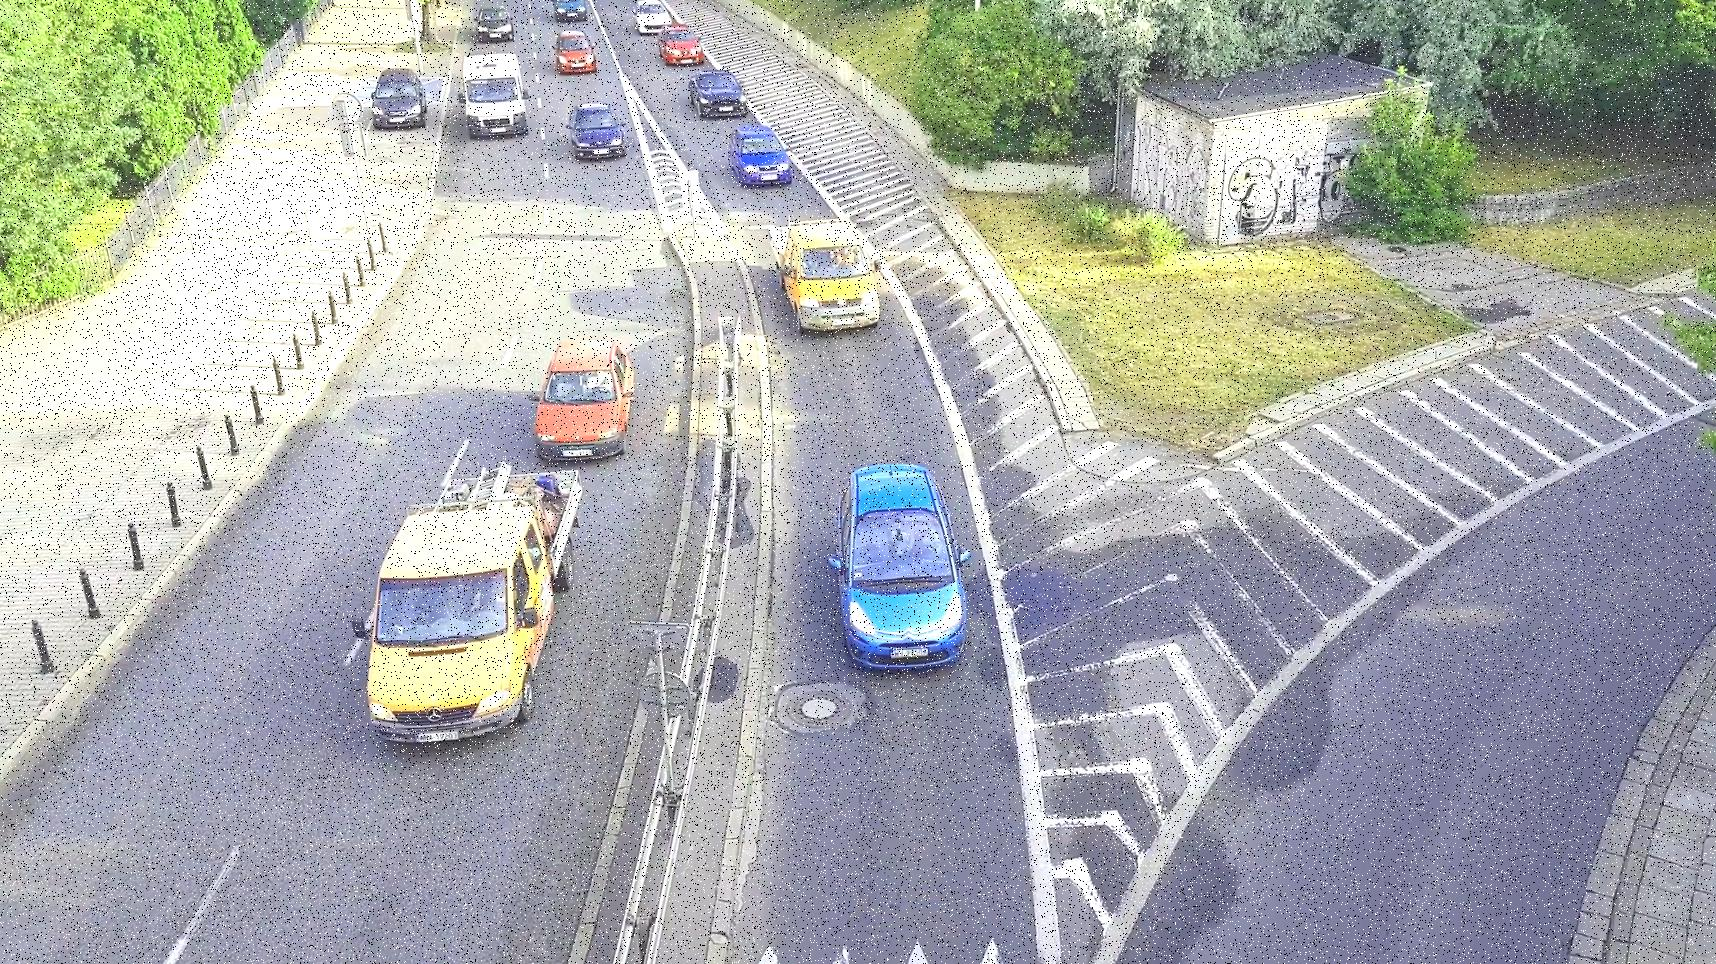car: (826, 457, 978, 662), (527, 316, 641, 471), (456, 47, 533, 140), (722, 121, 805, 196), (563, 94, 634, 166), (368, 62, 430, 134), (680, 70, 753, 120), (653, 18, 709, 68), (550, 27, 595, 70), (473, 1, 517, 40), (635, 0, 669, 34), (548, 0, 587, 21)
truck: (362, 431, 586, 770), (766, 205, 884, 344)
